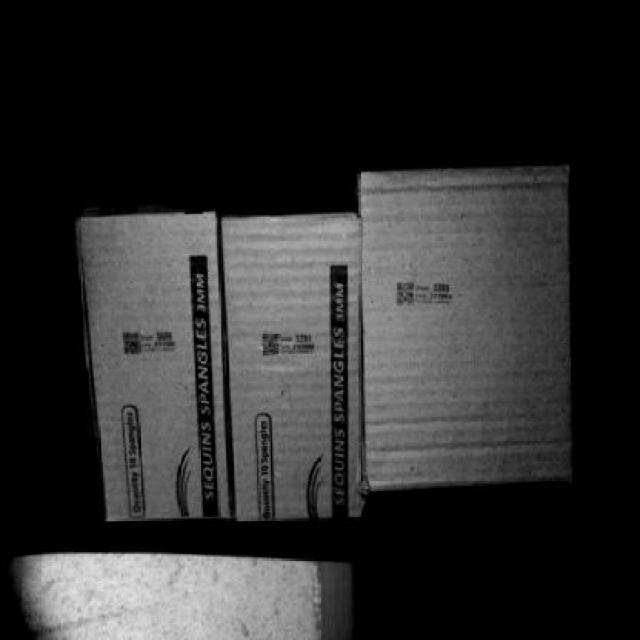cardboxes: (362, 162, 568, 487), (78, 212, 230, 531), (223, 214, 362, 517)
